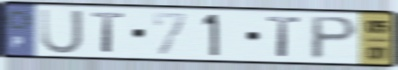1: (200, 12, 222, 58)
7: (151, 10, 188, 57)
P: (309, 15, 361, 62)
T: (89, 11, 128, 55), (265, 15, 303, 59)
U: (38, 7, 86, 56)
